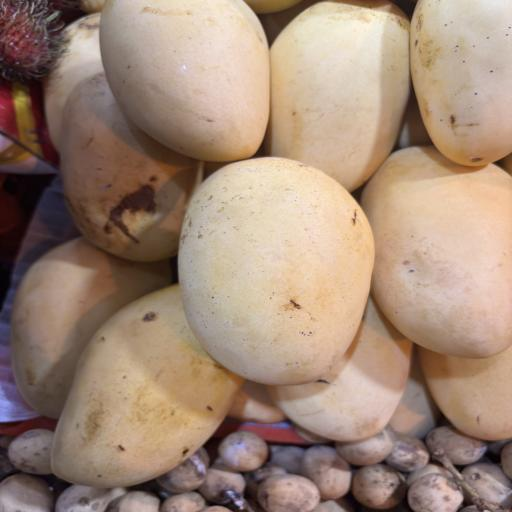fruit: (171, 143, 367, 387), (37, 12, 210, 265), (50, 278, 239, 492), (352, 134, 512, 365), (7, 225, 185, 428), (90, 0, 278, 164), (254, 0, 406, 195), (294, 283, 427, 443), (392, 0, 512, 169), (404, 294, 512, 440)
